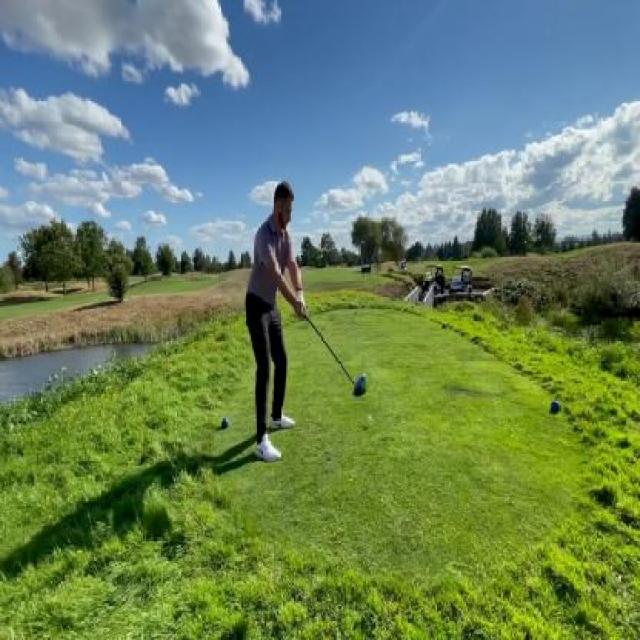club head: (350, 372, 368, 403)
